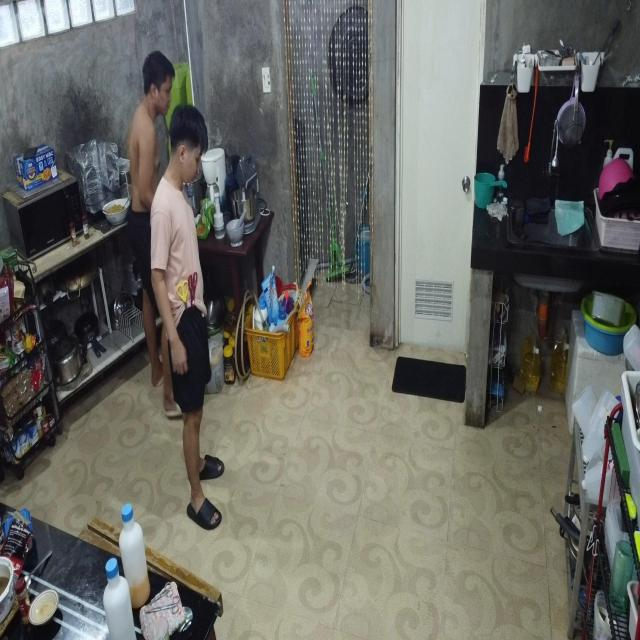scissor: (146, 596, 180, 614), (147, 582, 173, 604), (177, 280, 189, 309), (188, 272, 198, 306)
